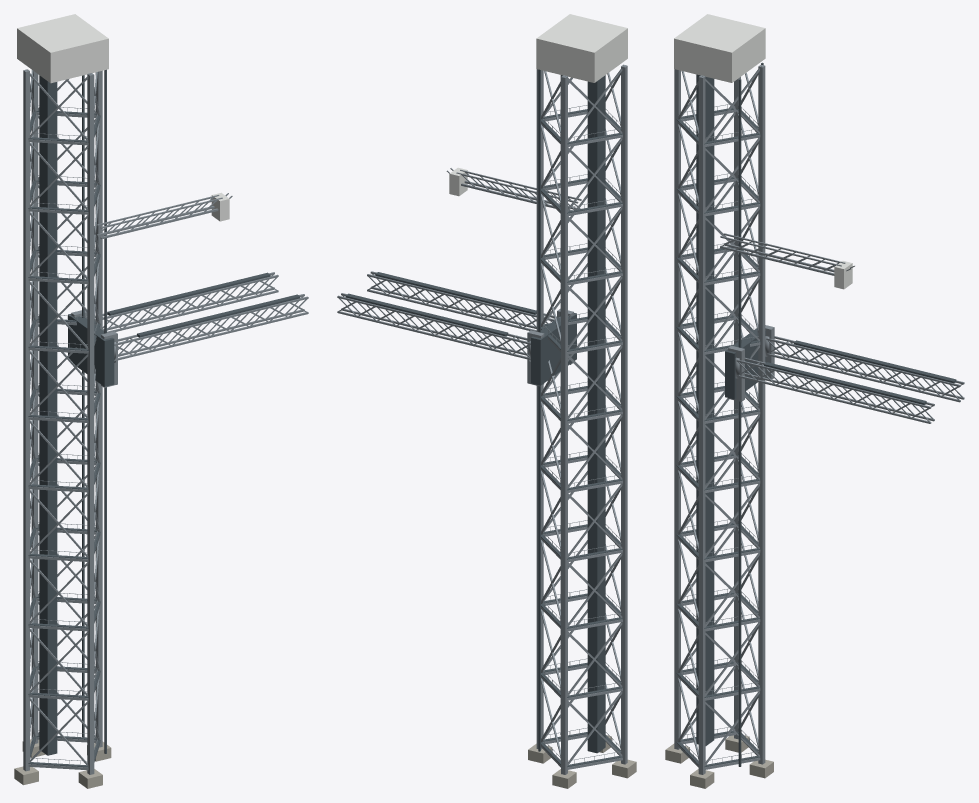
File: tower_b.glb
3 views of the same model, side by side, from view 1: azimuth 30°, elevation 25°; view 2: azimuth 150°, elevation 25°; view 3: azimuth 330°, elevation 25° (orthographic).
Parts seen in each view (by area): view 1: TowerStructure, ArmTruss_R, ArmTruss_L, CarriageFrame, QDTruss; view 2: TowerStructure, ArmTruss_L, ArmTruss_R, CarriageFrame, QDTruss; view 3: TowerStructure, ArmTruss_R, ArmTruss_L, QDTruss, CarriageFrame.
Boxes of the visible parts, box(x1,y1,x2,y2) form: TowerStructure: box(14, 14, 111, 788); ArmTruss_R: box(114, 294, 308, 362); ArmTruss_L: box(94, 272, 278, 332); CarriageFrame: box(68, 310, 117, 387); QDTruss: box(97, 192, 232, 239); TowerStructure: box(528, 14, 636, 788); ArmTruss_L: box(337, 293, 530, 361); ArmTruss_R: box(367, 271, 556, 331); CarriageFrame: box(527, 308, 576, 386); QDTruss: box(446, 167, 581, 210); TowerStructure: box(665, 14, 773, 788); ArmTruss_R: box(735, 357, 934, 423); ArmTruss_L: box(765, 336, 964, 402); QDTruss: box(720, 233, 854, 289); CarriageFrame: box(725, 325, 774, 401).
Bounding box in the file's own units: 56.73 × 144 × 19.46.
4 materials, 1 textured.
